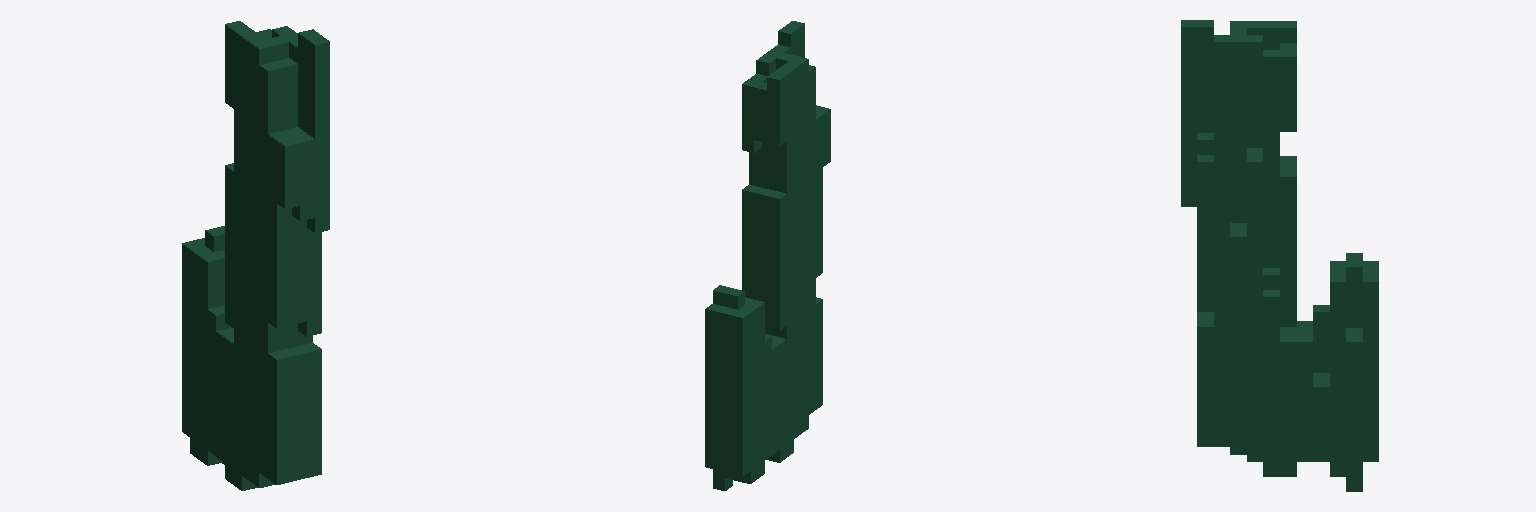
URDF robot description (physxnet_1005_strict):
<?xml version='1.0' encoding='utf-8'?>
<robot name="physxnet_1005_strict">
  <link name="l_world">
    <inertial>
      <origin xyz="0 0 0" rpy="0 0 0" />
      <mass value="0.0100000000" />
      <inertia ixx="0.0000001667" ixy="0.0" ixz="0.0" iyy="0.0000001667" iyz="0.0" izz="0.0000001667" />
    </inertial>
  </link><link name="l_0">
    <inertial>
      <origin xyz="0.0000000000 0.0010932230 0.0542622174" rpy="0 0 0" />
      <mass value="0.0090979958" />
      <inertia ixx="0.0000295104" ixy="0.0" ixz="0.0" iyy="0.0000278519" iyz="0.0" izz="0.0000017692" />
    </inertial><visual>
      <origin xyz="0 0 0" rpy="0 0 0" />
      <geometry>
        <mesh filename="../rigid_visuals/part_000_visual.obj" scale="1 1 1" />
      </geometry><material name="mat_l_0">
        <color rgba="0.32548 0.48041 0.93131 1.00000" />
      </material>
    </visual><collision>
      <origin xyz="0 0 0" rpy="0 0 0" />
      <geometry>
        <mesh filename="part_000_collision.obj" scale="1 1 1" />
      </geometry>
    </collision>
  </link><joint name="joint_fixed_l_world_l_0" type="fixed">
    <parent link="l_world" />
    <child link="l_0" />
    <origin xyz="0 0 0" rpy="0 0 0" />
  </joint><link name="l_1">
    <inertial>
      <origin xyz="0.0000000000 -0.0018957621 -0.0900544774" rpy="0 0 0" />
      <mass value="0.0008468200" />
      <inertia ixx="0.0000011633" ixy="0.0" ixz="0.0" iyy="0.0000010195" iyz="0.0" izz="0.0000001541" />
    </inertial><visual>
      <origin xyz="0 0 0" rpy="0 0 0" />
      <geometry>
        <mesh filename="../rigid_visuals/part_001_visual.obj" scale="1 1 1" />
      </geometry><material name="mat_l_1">
        <color rgba="0.15447 0.35718 0.26453 1.00000" />
      </material>
    </visual><collision>
      <origin xyz="0 0 0" rpy="0 0 0" />
      <geometry>
        <mesh filename="part_001_collision.obj" scale="1 1 1" />
      </geometry>
    </collision>
  </link><joint name="joint_fixed_l_0_l_1" type="fixed">
    <parent link="l_0" />
    <child link="l_1" />
    <origin xyz="0 0 0" rpy="0 0 0" />
  </joint>
</robot>

--- What the picture shows (computed from the rendered views, not written in the file) ---
Views: 3 orthographic renders of the robot side by side, from view 1: azimuth 30°, elevation 25°; view 2: azimuth 150°, elevation 25°; view 3: azimuth 270°, elevation 25°.
Model physxnet_1005_strict with 3 links and 2 joints (2 fixed), rooted at l_world, posed every joint at zero.
Visible links, largest first — view 1: l_1; view 2: l_1; view 3: l_1.
Boxes of the visible links, x1,y1,x2,y2 form: l_1: [182, 21, 329, 490]; l_1: [705, 21, 830, 490]; l_1: [1181, 20, 1378, 491].
Size in the robot's own frame: 0.012 by 0.048 by 0.124 metres.
1 mesh visuals loaded from 2 distinct referenced files (1 OBJ); not drawn: 1 (reference not matched to a file when rendering).
